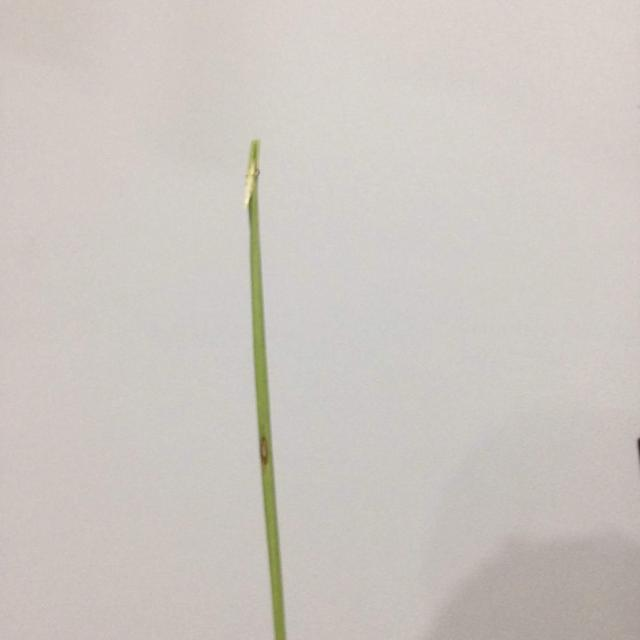Blast: (260, 438, 272, 462)
